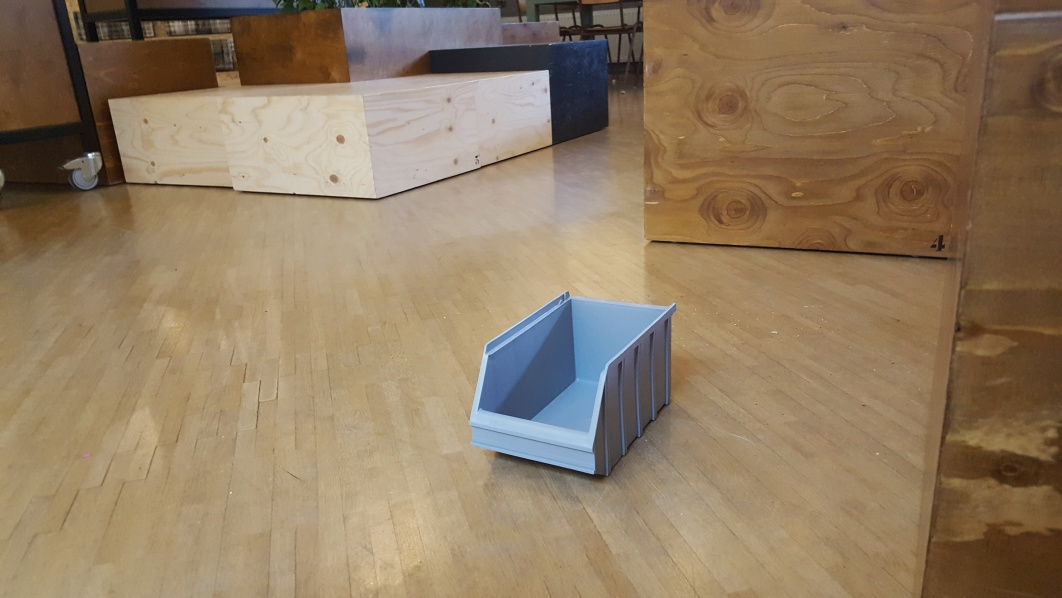tray: (467, 289, 682, 478)
